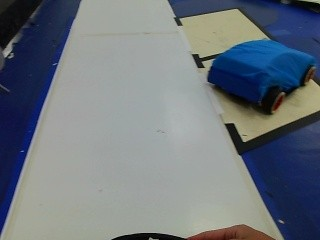car: (192, 31, 319, 115)
